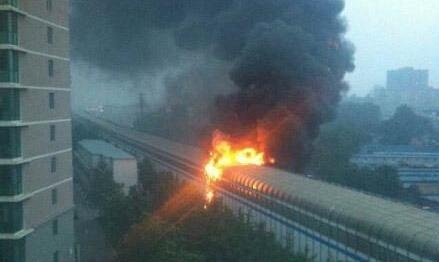fire: (198, 130, 271, 204)
